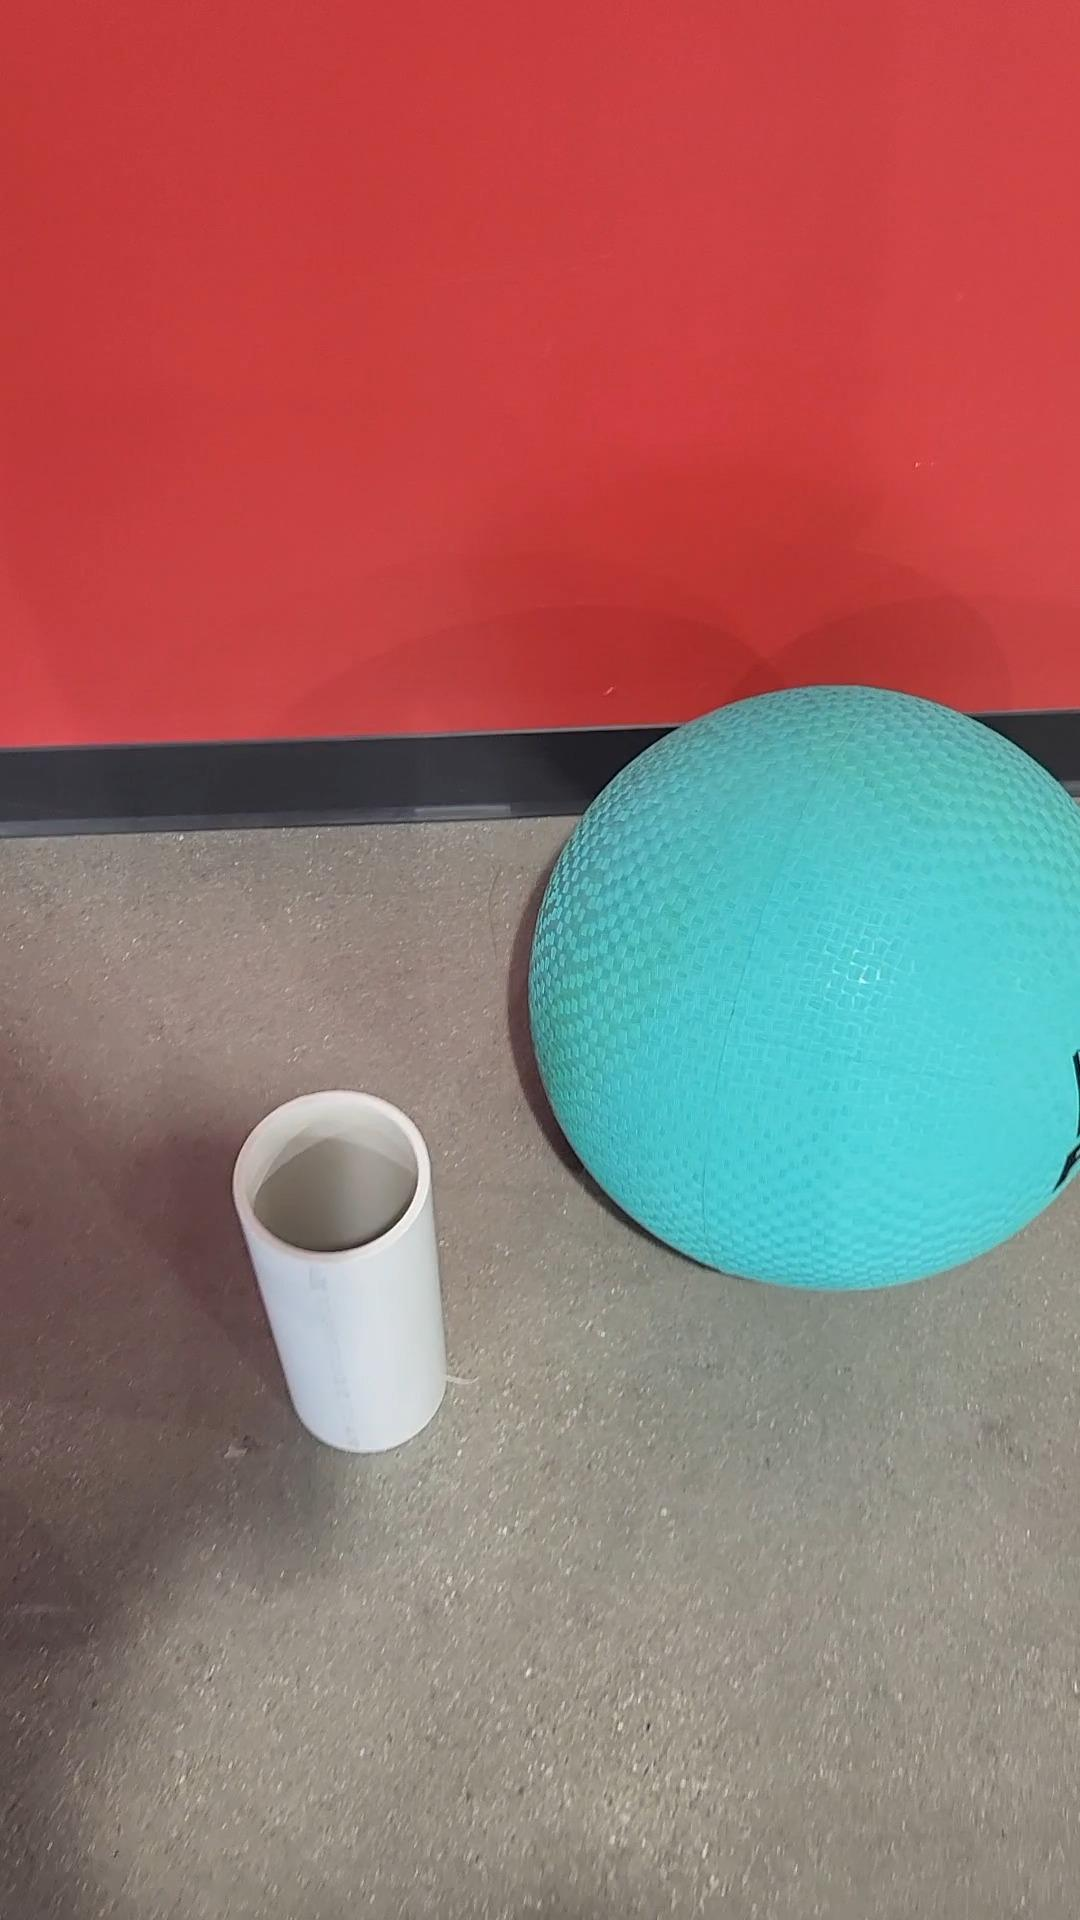algae: (525, 680, 1079, 1296)
coral: (229, 1084, 448, 1458)
